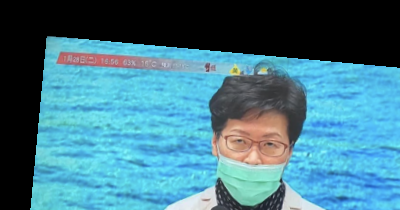mask_weared_incorrect: (200, 63, 329, 210)
